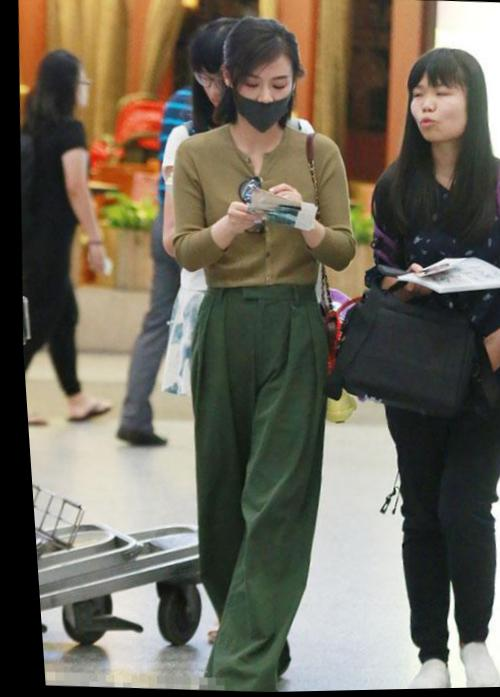NONE: (406, 81, 466, 145), (192, 62, 241, 113)
WRONG: (223, 65, 296, 136)
